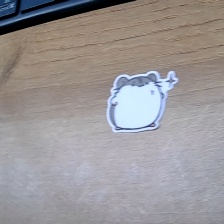mouse: (105, 71, 180, 133)
